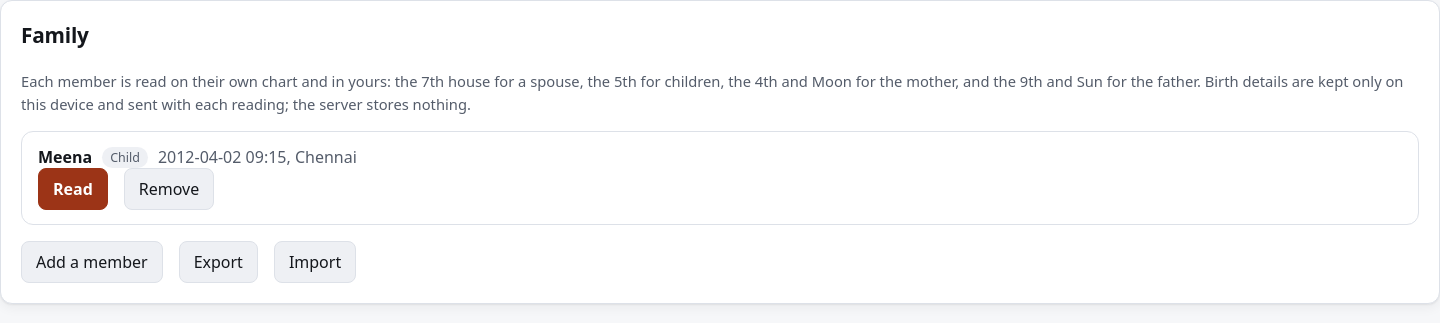
FamilyView › removes a member only after confirmation
Step 1. Click the button "Remove" → {"x": 169, "y": 189}, box [124,168,214,210]
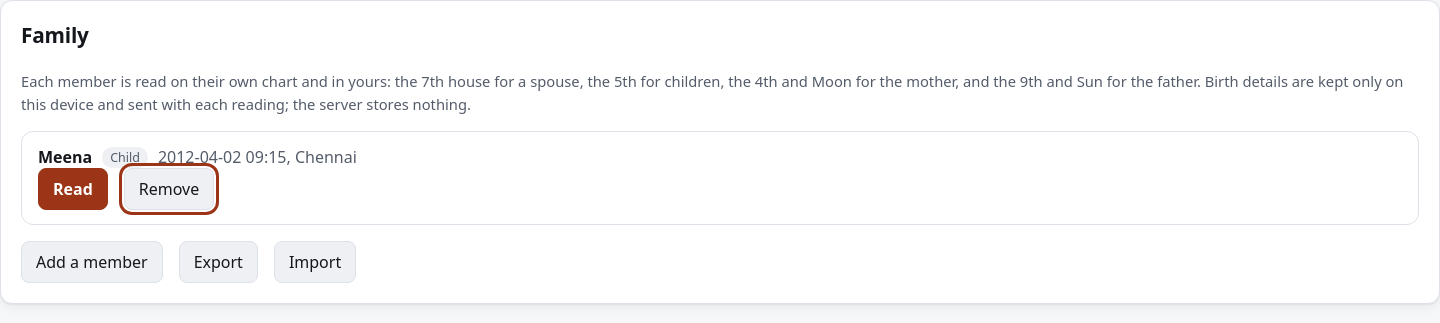
Expected: the text "Meena" is shown, [38,146,92,168]
Step 2. Click the button "Remove" → {"x": 169, "y": 189}, box [124,168,214,210]
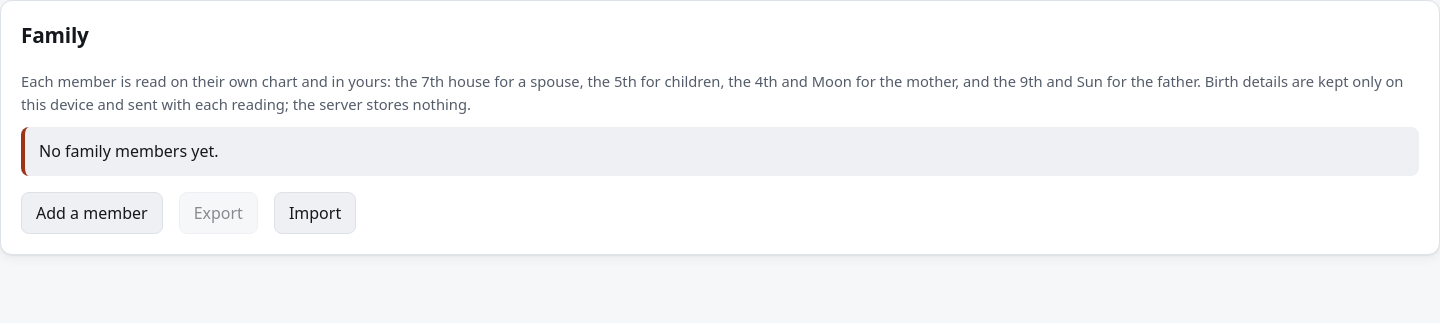
Result: the text "Meena" is gone
